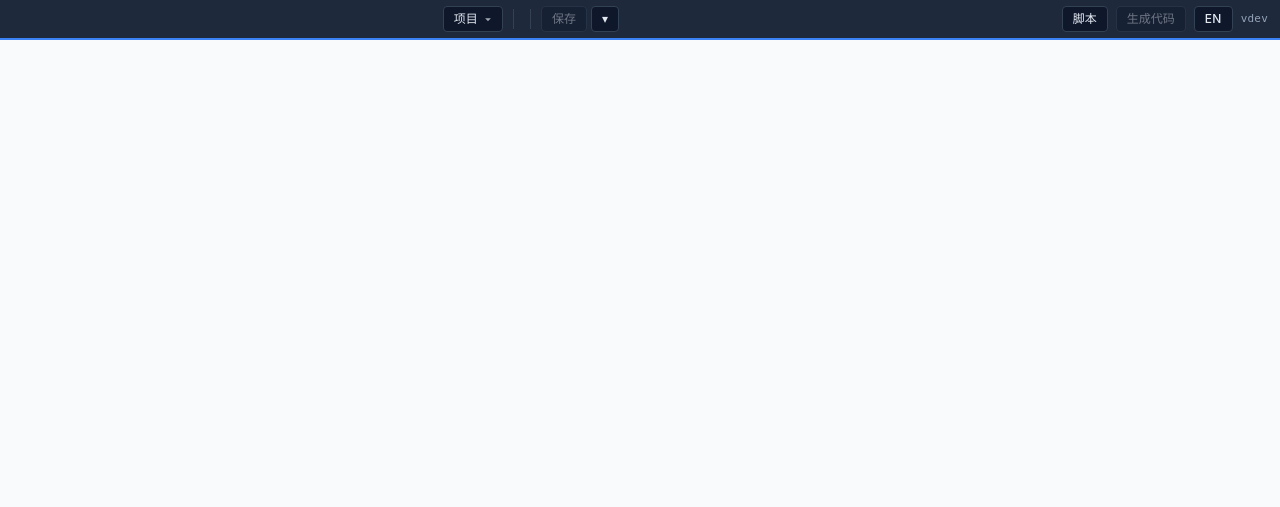
AppHeader ODX menu entry (T3) › "Open ODX…" is disabled when odxBusy is true
Click the button with test id "btn-menu-toggle": point(473, 19) [443,6,503,32]
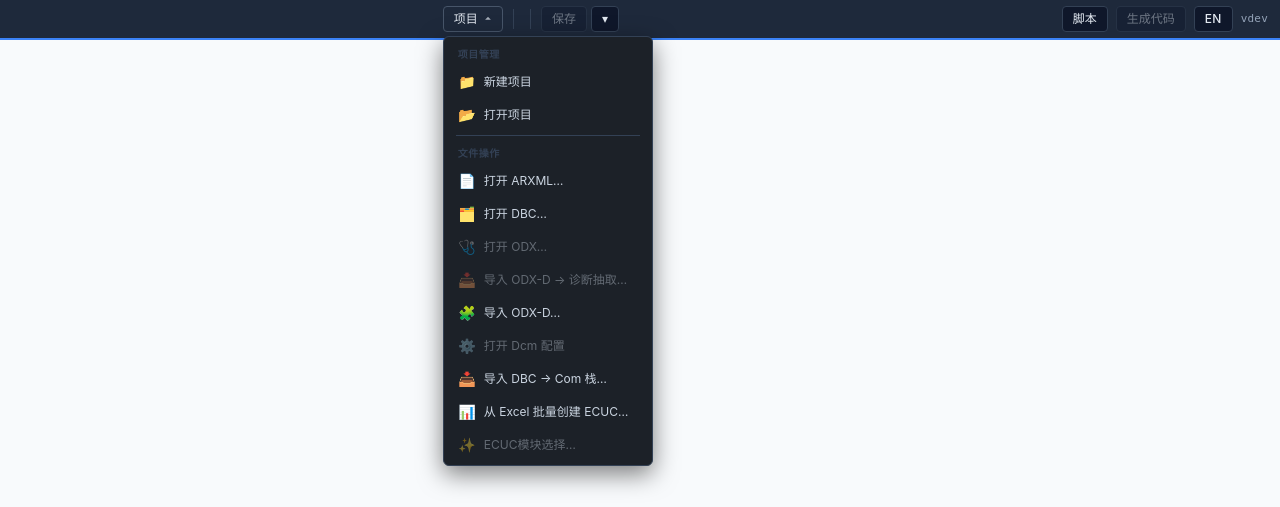
Now the menu item with test id "btn-open-odx" is disabled, box [448,230,648,263]
